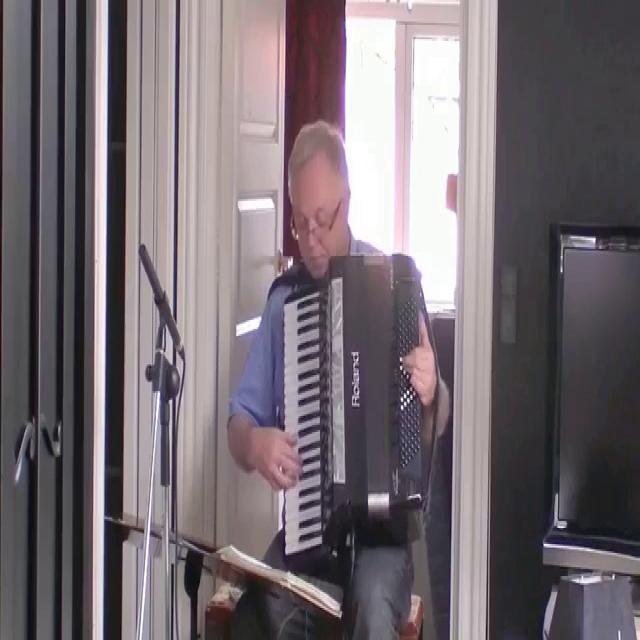Accordion: (279, 255, 429, 553)
